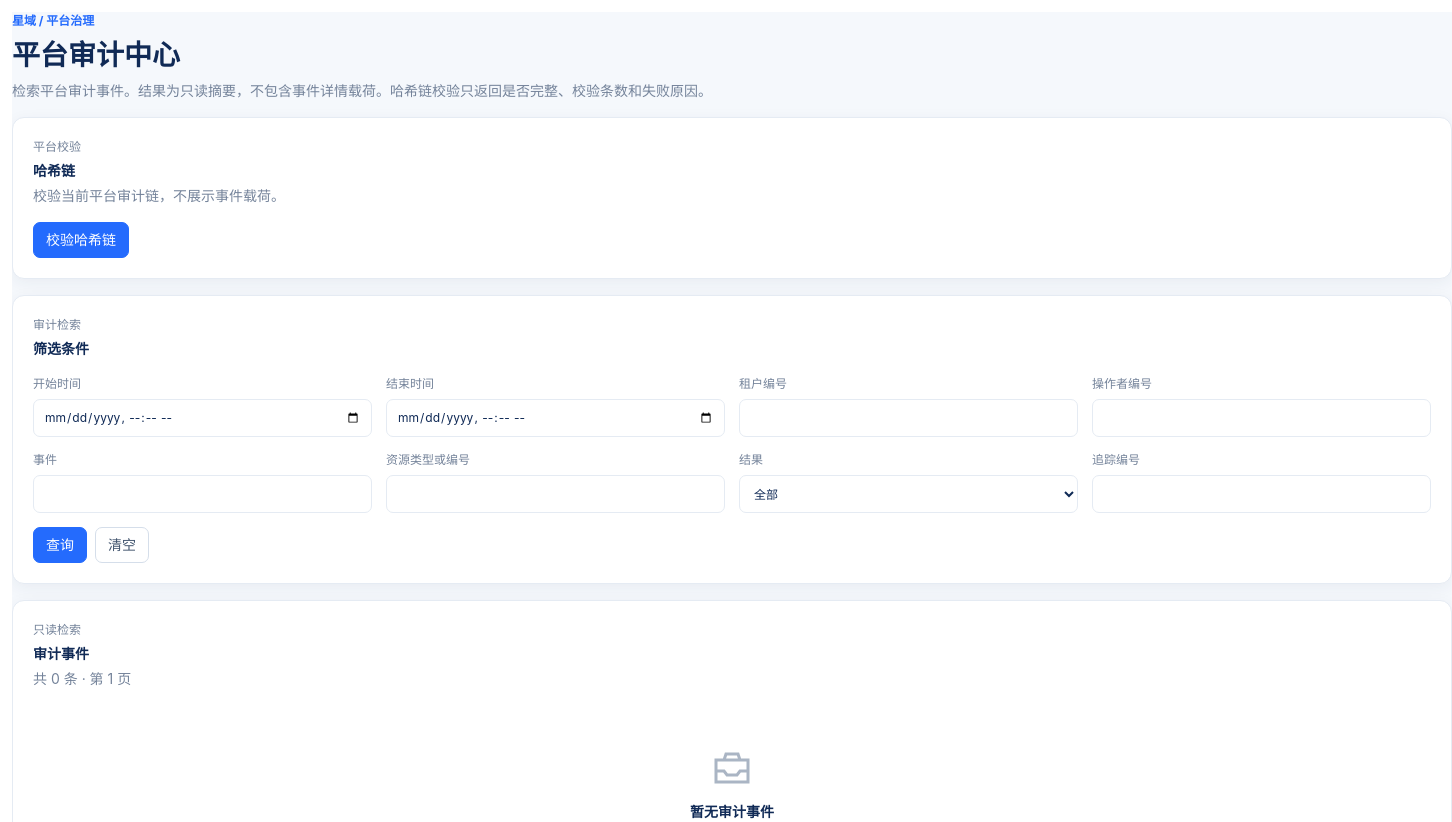
Test: P1 platform audit center › verifies the platform hash chain without rendering an event payload
Step 1. Click the button with test id "verify-chain" → point(81, 240), box [33, 222, 129, 258]
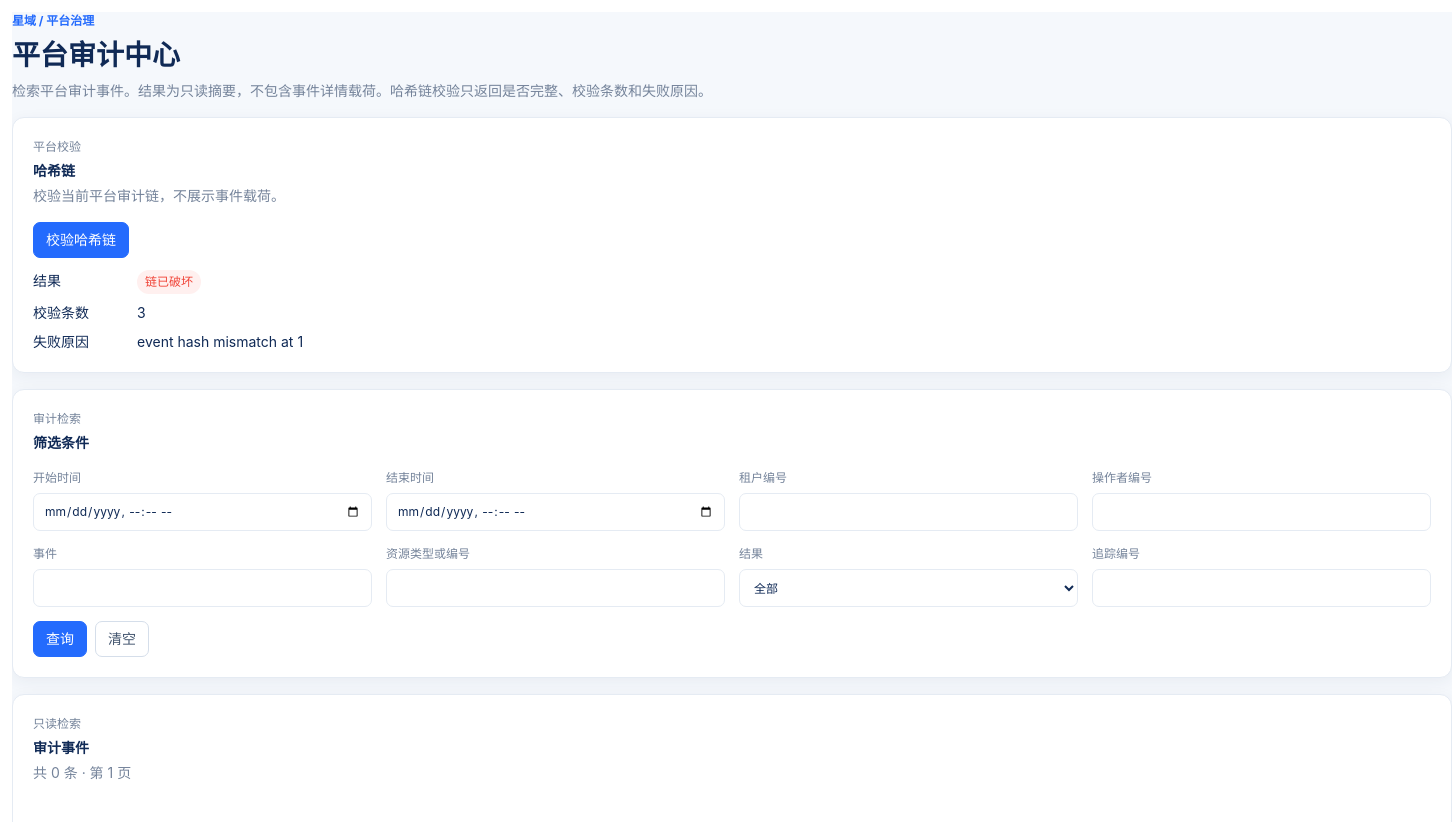
Expected: the text "链已破坏" is shown, [137, 270, 201, 294]
Expected: the text "3" is shown, [137, 304, 146, 321]
Expected: the text "event hash mismatch at 1" is shown, [137, 333, 303, 350]
